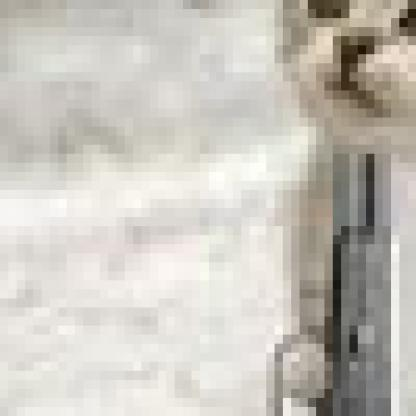gun: (124, 136, 408, 407)
